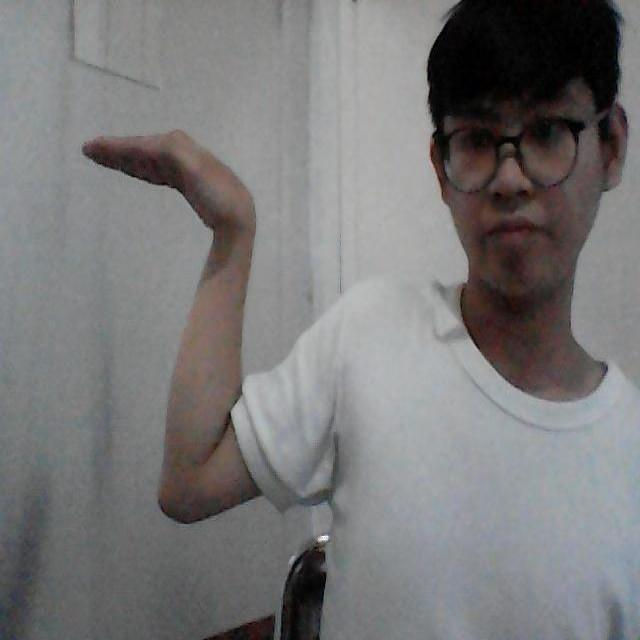Z: (73, 114, 269, 538)
